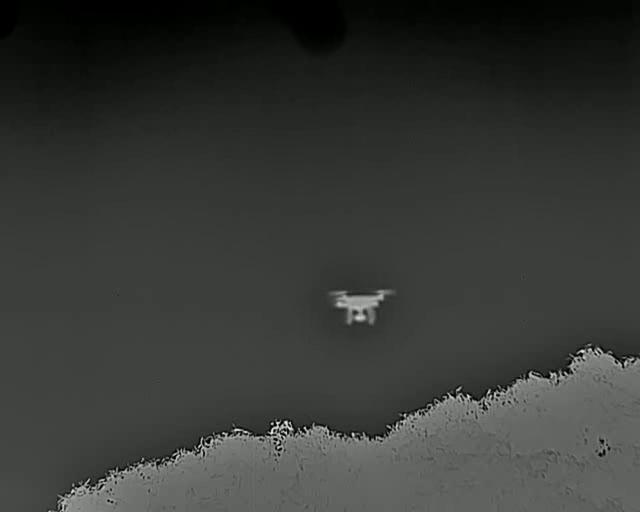DJI-Phantom: (327, 288, 400, 327)
